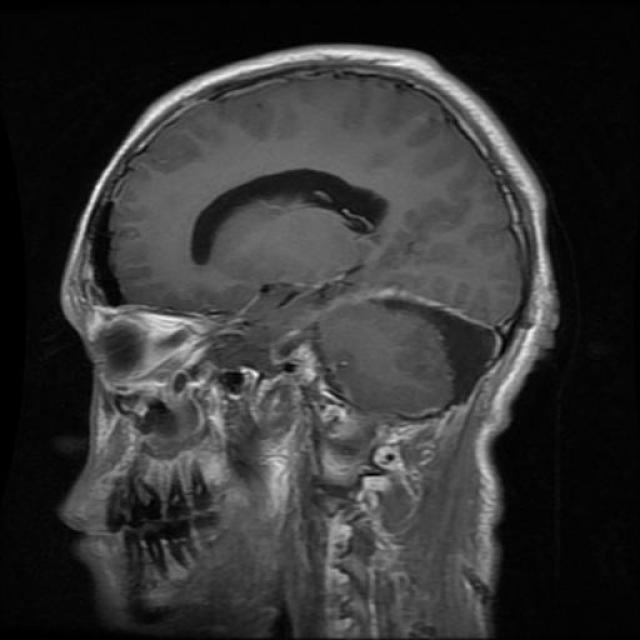brain_tumor: (191, 169, 388, 263), (372, 296, 501, 401)
